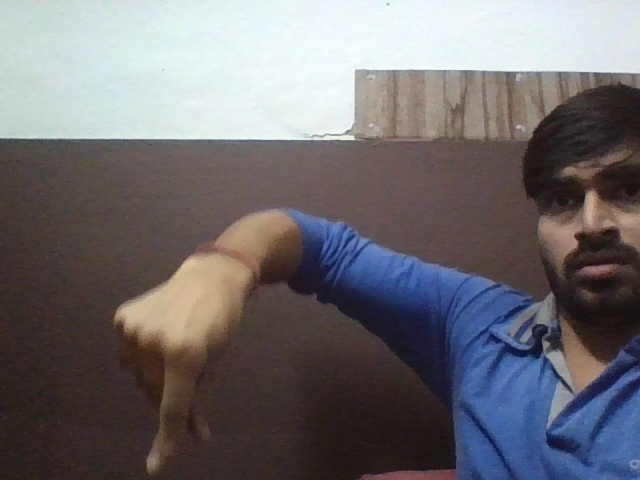Q: (87, 285, 242, 472)
